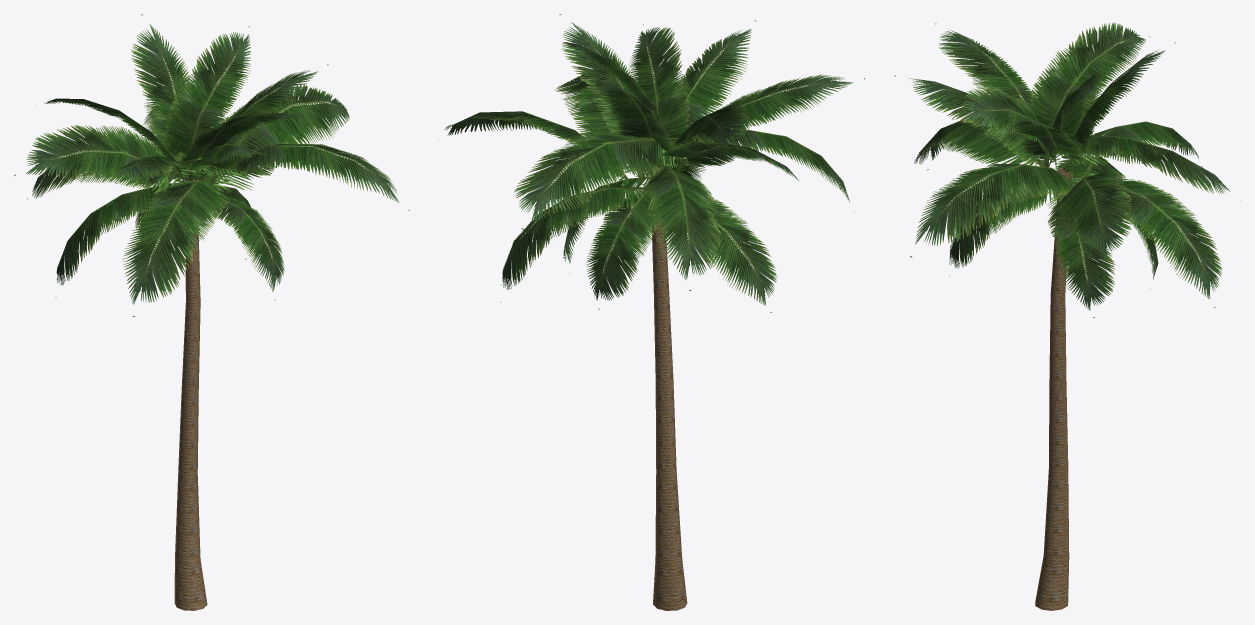
The model's file is Palm-02.fbx.
3 views of the same model, side by side, from view 1: azimuth 30°, elevation 25°; view 2: azimuth 150°, elevation 25°; view 3: azimuth 270°, elevation 25° (orthographic). The views are drawn at different scales.
Parts seen in each view (by area): view 1: palm-02; view 2: palm-02; view 3: palm-02.
Part boxes in pixels (bbox=[...]): palm-02: bbox=[14, 14, 409, 610]; palm-02: bbox=[444, 14, 865, 610]; palm-02: bbox=[894, 22, 1240, 610].
Bounding box in the file's own units: 4.59 × 6.89 × 3.82.
